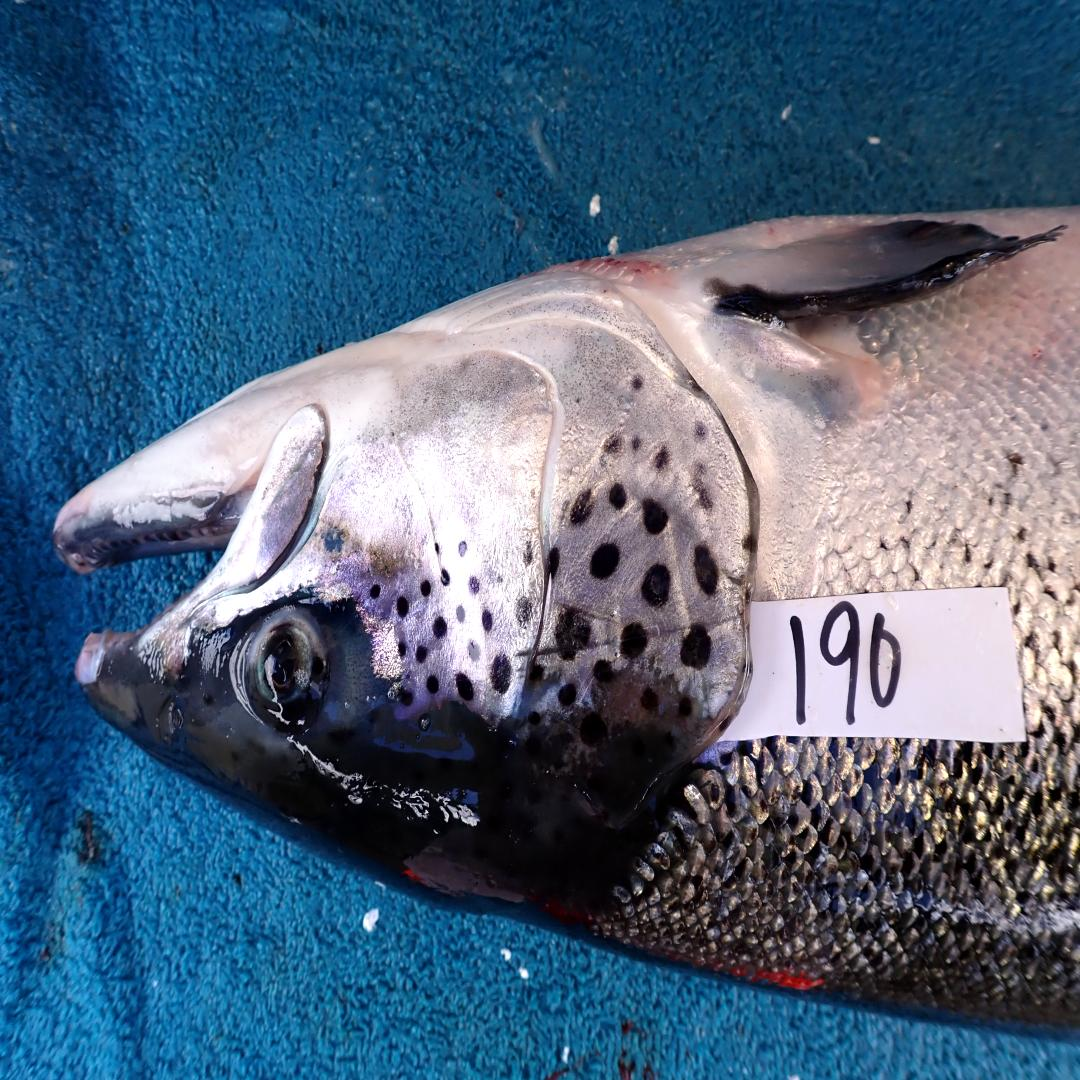roi: (332, 257, 759, 736)
